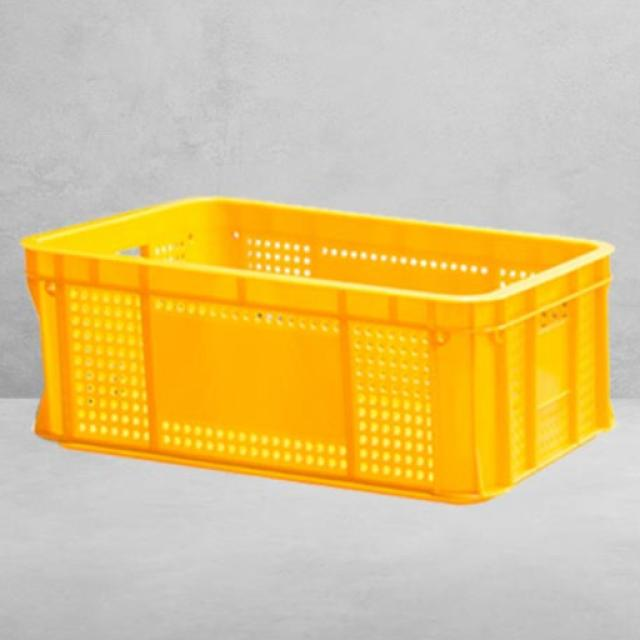basket: (0, 175, 635, 521)
